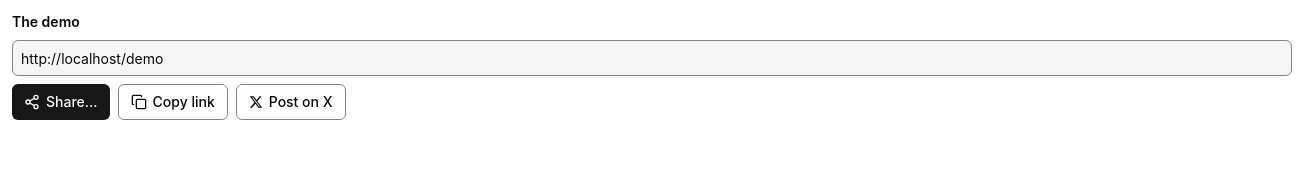
DemoShare › says so when sharing fails
Click the button "Share…".
click(61, 102)  # box [12, 84, 110, 120]
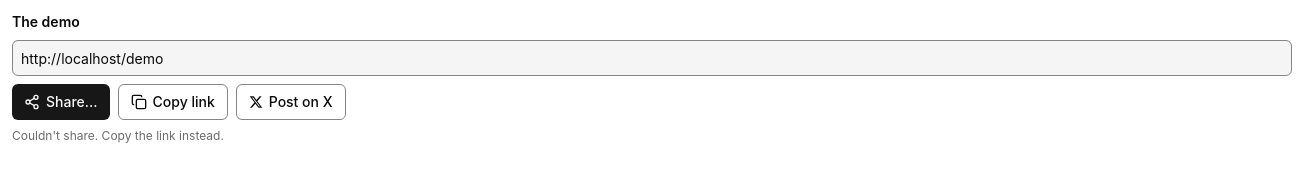
Expected: the message shows "Couldn't share", [12, 128, 224, 143]
